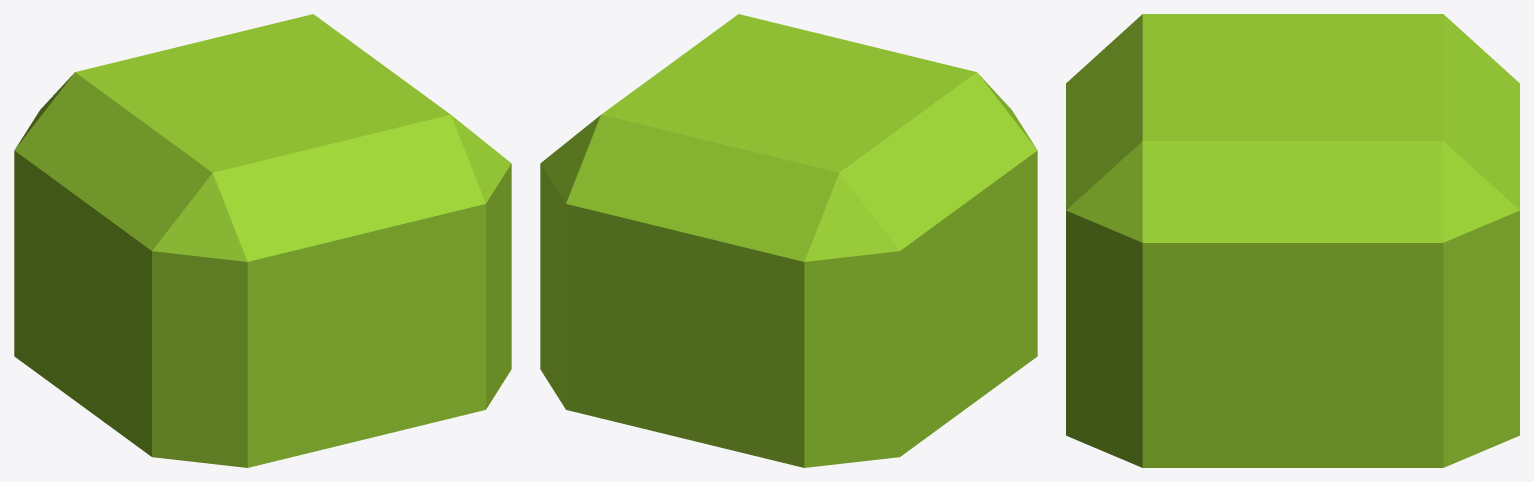
The model's file is GrassBranch1.fbx.
3 views of the same model, side by side, from view 1: azimuth 30°, elevation 25°; view 2: azimuth 150°, elevation 25°; view 3: azimuth 270°, elevation 25° (orthographic). The views are drawn at different scales.
Visible parts, largest first — view 1: Cube.189; view 2: Cube.189; view 3: Cube.189.
Boxes of the visible parts, x1=… form: Cube.189: x1=14, y1=14, x2=511, y2=467; Cube.189: x1=540, y1=14, x2=1037, y2=467; Cube.189: x1=1066, y1=14, x2=1519, y2=467.
Size of the model in its own units: 2.07 by 1.48 by 2.07.
1 material, 1 textured.
